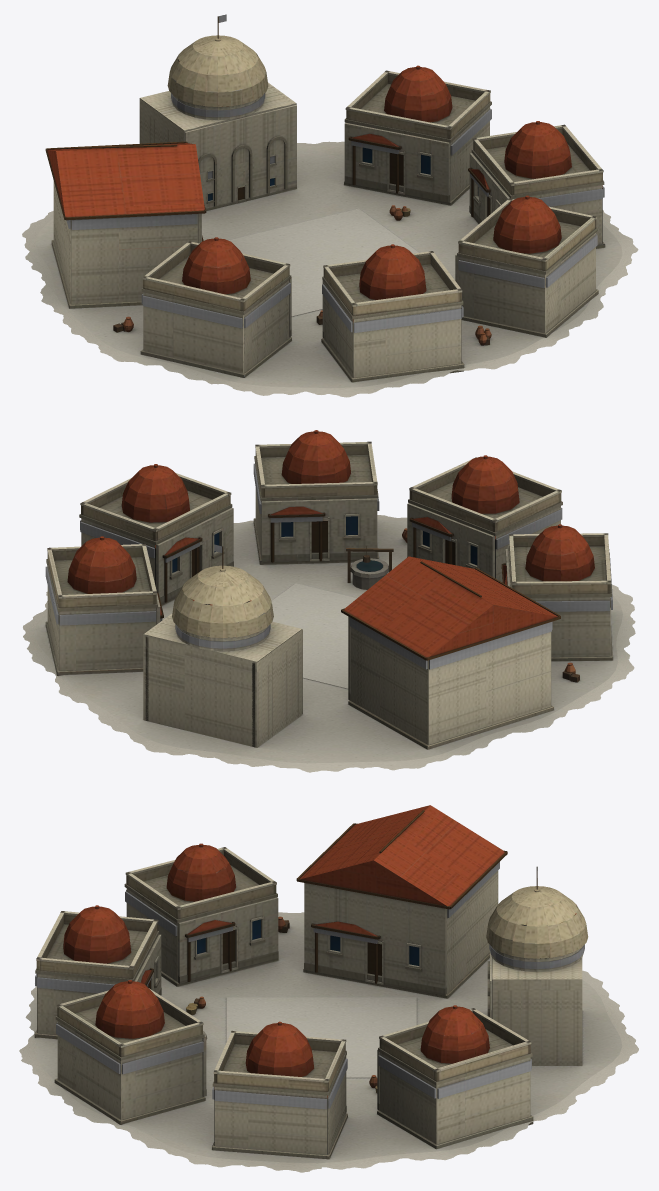
The model's file is gunpowder-town-small-a-israelite-bfb8469f.glb.
3 views of the same model, one above another, from view 1: azimuth 30°, elevation 25°; view 2: azimuth 150°, elevation 25°; view 3: azimuth 270°, elevation 25° (orthographic).
Parts seen in each view (by area): view 1: LOD0; view 2: LOD0; view 3: LOD0.
Boxes of the visible parts, left/top/right/bottom form: LOD0: left=22, top=14, right=638, bottom=397; LOD0: left=23, top=430, right=635, bottom=772; LOD0: left=19, top=805, right=638, bottom=1172.
Size of what is drawn, in the model's own units: 3.97 by 1.22 by 3.98.
3 materials, 3 textured.
